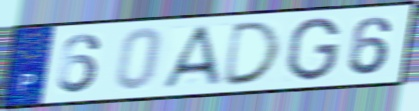0: (111, 25, 164, 94)
6: (57, 32, 103, 95), (349, 15, 393, 77)
A: (159, 23, 225, 91)
D: (220, 19, 284, 88)
G: (285, 15, 342, 83)
